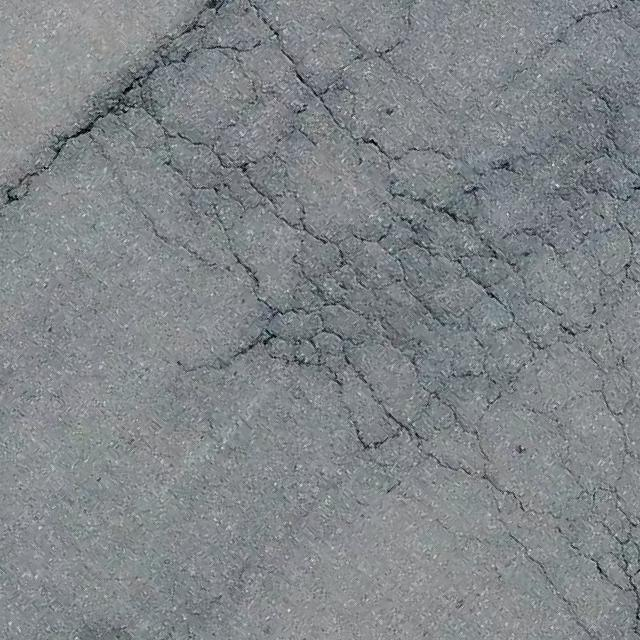GRIETA: (0, 132, 74, 208)
PIEL DE COCODRILO: (66, 0, 639, 639)
